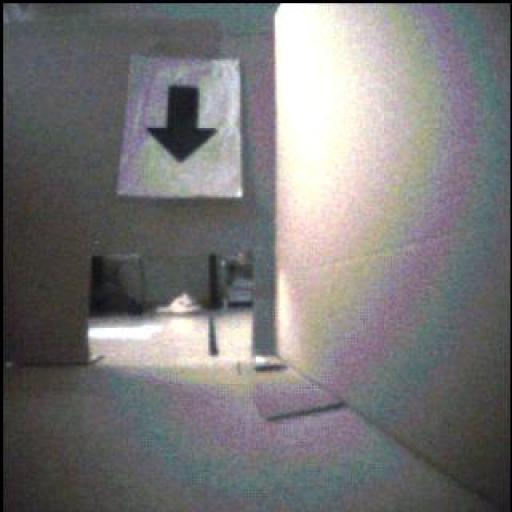arrow: (148, 88, 217, 163)
